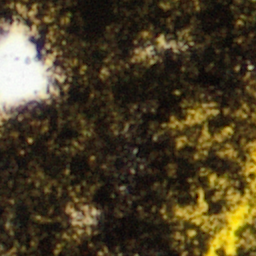cement_matrix: (0, 0, 255, 255), (220, 218, 255, 255), (73, 210, 94, 224), (191, 113, 201, 119), (161, 40, 166, 44), (144, 51, 147, 54)
cracks: (179, 143, 255, 255), (192, 114, 200, 118), (162, 41, 165, 43), (145, 52, 146, 53)
gravel_crushed_stones: (0, 20, 59, 121), (74, 211, 93, 223)
